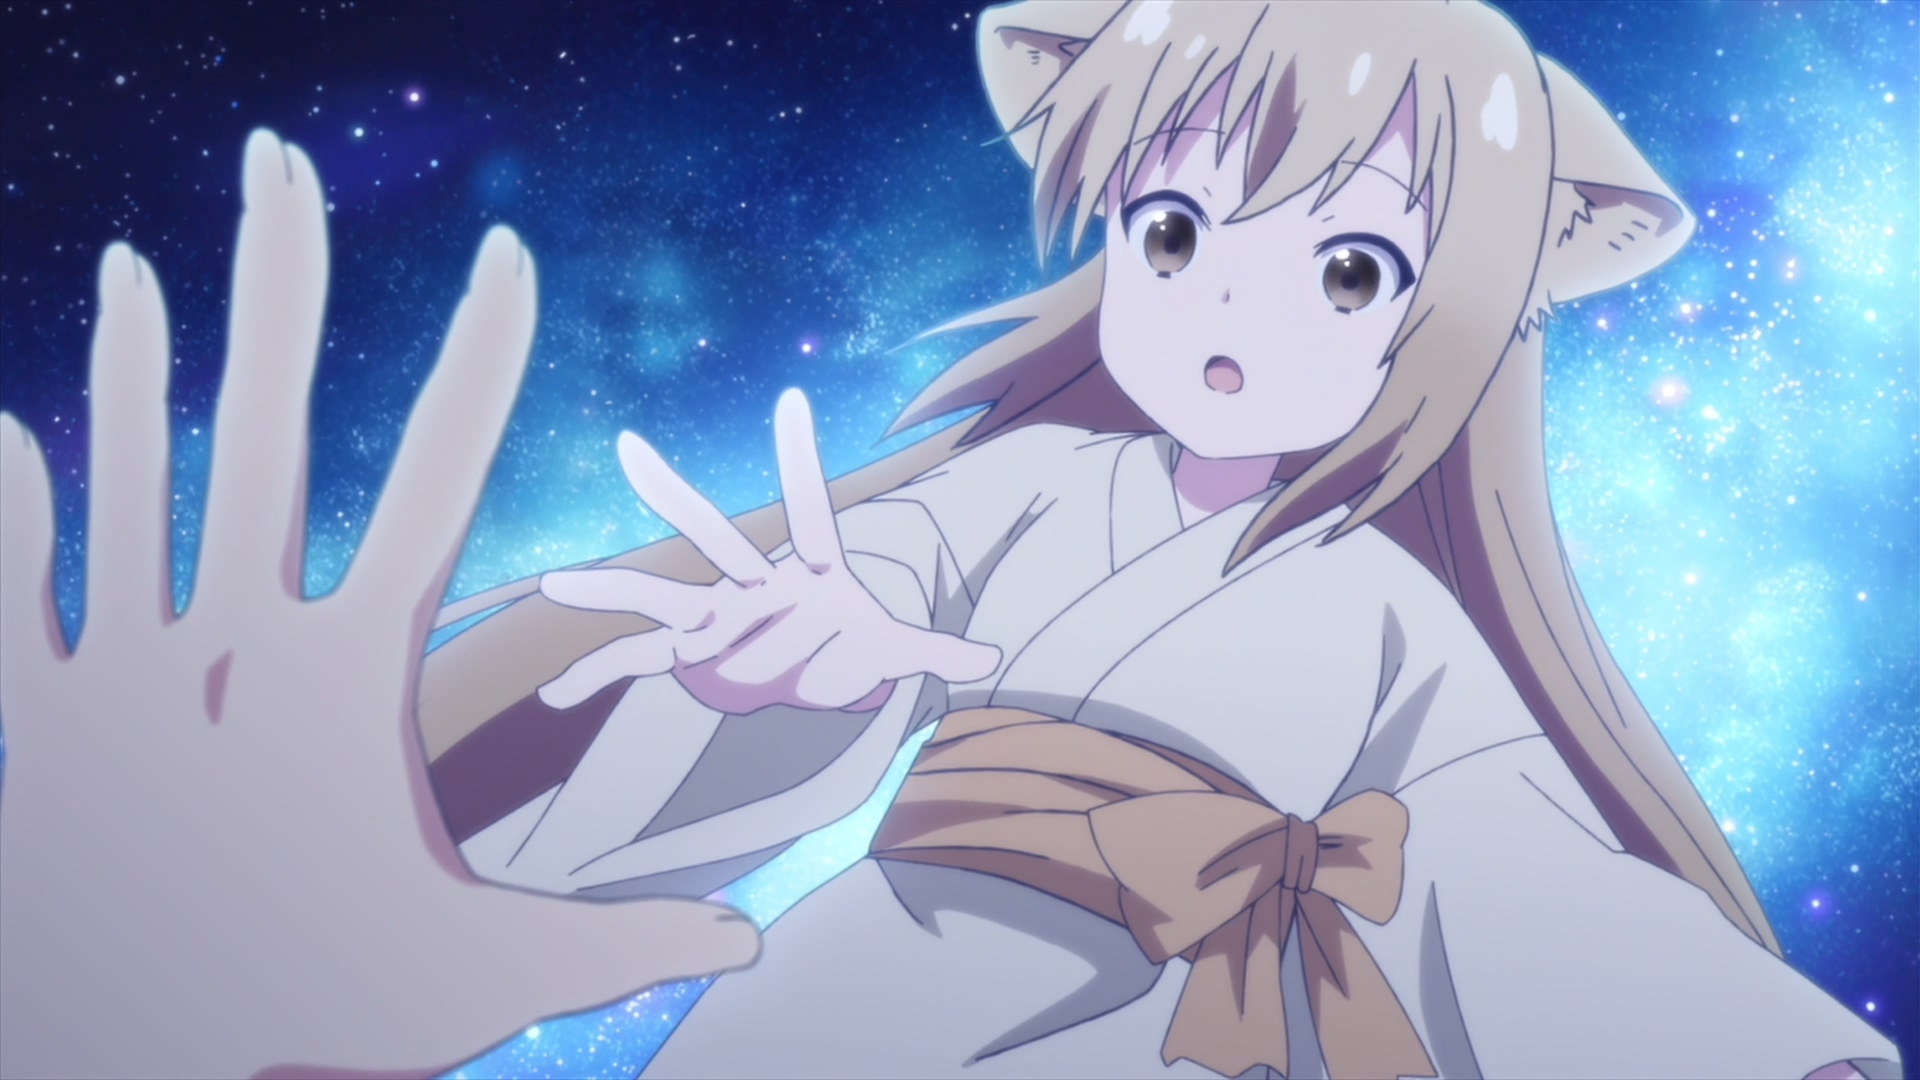柚: (417, 1, 1900, 1080)
